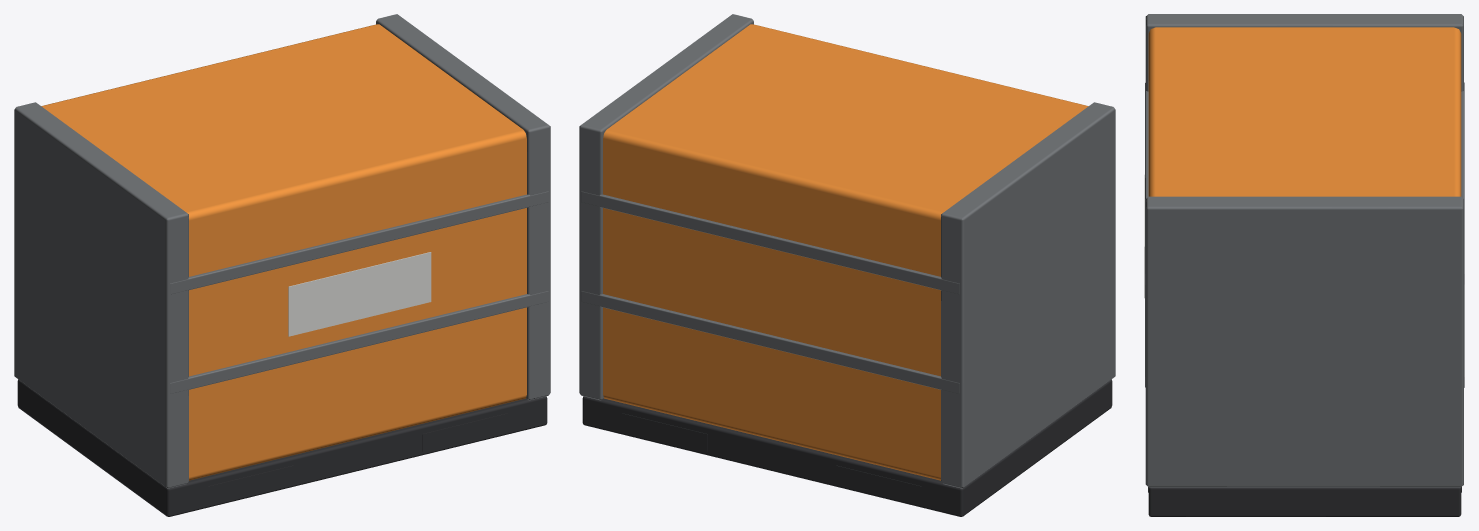
The model's file is crate_large.glb.
3 views of the same model, side by side, from view 1: azimuth 30°, elevation 25°; view 2: azimuth 150°, elevation 25°; view 3: azimuth 270°, elevation 25° (orthographic). The views are drawn at different scales.
Parts seen in each view (by area): view 1: crate_large; view 2: crate_large; view 3: crate_large.
Boxes of the visible parts, bbox=[...] form: crate_large: bbox=[14, 14, 550, 516]; crate_large: bbox=[579, 14, 1115, 516]; crate_large: bbox=[1144, 14, 1464, 516].
Bounding box in the file's own units: 1.62 × 1.21 × 1.13.
